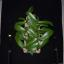leaf: (37, 30, 54, 40), (28, 14, 38, 30), (15, 35, 25, 48), (25, 28, 38, 38), (24, 38, 38, 47), (26, 12, 38, 22), (14, 24, 26, 32), (24, 42, 40, 48), (16, 31, 26, 40), (39, 40, 49, 48), (39, 21, 54, 26), (27, 33, 37, 38), (14, 21, 26, 25), (40, 27, 53, 30), (28, 6, 34, 12), (18, 17, 26, 21), (38, 30, 46, 34), (25, 48, 37, 50), (30, 51, 34, 55), (37, 16, 39, 22)
